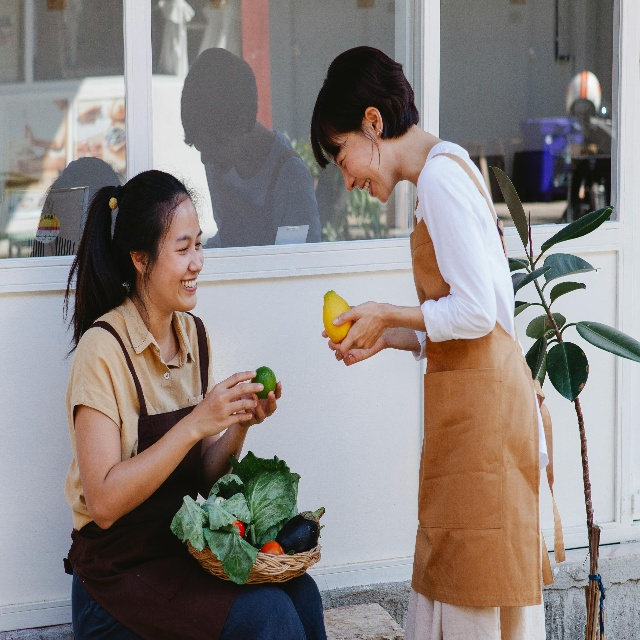Sin_guantes: (191, 370, 264, 439), (330, 299, 387, 355), (321, 328, 386, 367), (236, 380, 283, 427)
